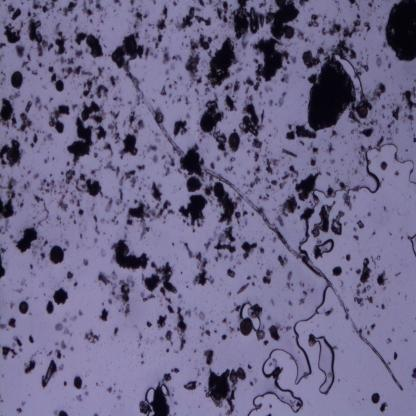Air bubble: (240, 338, 313, 416), (355, 145, 416, 203), (292, 284, 330, 340), (316, 335, 338, 394), (313, 238, 336, 258), (240, 300, 256, 320), (405, 231, 416, 257), (250, 314, 263, 329), (146, 387, 154, 403), (161, 384, 171, 396)
Background material: (308, 56, 354, 131), (383, 0, 416, 61), (252, 36, 290, 83), (180, 239, 216, 285), (206, 38, 236, 89), (204, 369, 236, 413), (67, 118, 97, 164), (151, 256, 177, 304), (176, 195, 210, 231), (267, 5, 301, 39), (311, 202, 337, 239), (126, 200, 151, 238), (180, 141, 205, 178), (296, 171, 324, 203), (245, 103, 268, 136), (16, 228, 39, 255), (217, 193, 237, 223), (233, 4, 250, 39), (153, 382, 171, 414), (176, 305, 188, 352), (118, 253, 148, 271), (29, 20, 43, 58), (152, 199, 175, 222), (334, 40, 357, 63), (42, 356, 58, 388), (342, 17, 362, 41), (121, 132, 140, 157), (370, 81, 390, 104), (119, 282, 132, 317), (178, 7, 196, 31), (30, 344, 55, 360), (4, 23, 23, 44), (280, 195, 298, 217), (127, 112, 146, 132), (148, 177, 162, 204), (141, 274, 162, 292), (109, 46, 126, 68), (18, 111, 34, 134), (241, 241, 259, 260), (214, 241, 238, 255), (186, 53, 199, 78), (109, 119, 122, 144), (36, 200, 49, 225), (103, 158, 121, 176), (316, 42, 335, 59), (172, 119, 189, 138), (249, 6, 260, 35), (359, 258, 371, 284), (162, 152, 175, 176), (228, 365, 245, 383), (38, 177, 57, 193), (212, 132, 228, 151), (216, 5, 232, 24), (332, 212, 344, 236), (403, 90, 416, 112), (340, 192, 355, 211), (56, 28, 66, 56), (219, 226, 236, 242), (224, 94, 239, 112), (328, 20, 343, 38), (56, 178, 67, 202), (348, 111, 363, 128), (108, 282, 119, 305), (193, 14, 214, 26), (0, 249, 9, 277), (6, 178, 16, 203), (1, 344, 17, 359), (84, 329, 100, 344), (82, 100, 102, 112), (126, 96, 141, 112), (352, 288, 364, 307), (98, 306, 110, 325), (97, 271, 112, 286), (298, 207, 314, 221), (139, 290, 155, 304), (204, 96, 218, 112), (76, 173, 87, 193), (92, 210, 101, 234), (360, 92, 372, 110), (248, 176, 263, 190), (247, 304, 262, 318), (305, 142, 320, 156), (34, 96, 48, 111), (96, 83, 109, 99), (193, 306, 206, 322), (359, 125, 375, 138), (126, 172, 138, 189), (203, 349, 215, 366), (182, 381, 199, 393), (96, 125, 108, 142), (357, 146, 367, 166), (48, 109, 58, 129), (84, 80, 95, 98), (278, 90, 289, 108), (281, 148, 299, 159), (62, 169, 76, 183), (246, 77, 260, 91), (138, 399, 151, 414), (114, 187, 124, 206), (55, 56, 74, 66), (0, 219, 11, 236), (261, 268, 272, 285), (170, 54, 183, 68), (62, 3, 75, 17), (285, 270, 294, 290), (25, 358, 37, 373), (56, 104, 71, 116), (280, 68, 291, 84), (103, 196, 114, 212), (12, 6, 23, 22), (189, 36, 200, 52), (346, 0, 359, 13), (57, 200, 70, 213), (356, 62, 368, 76), (92, 44, 104, 58), (75, 32, 87, 46), (310, 13, 321, 28), (197, 129, 208, 144), (104, 143, 115, 158), (91, 112, 106, 123), (160, 48, 170, 64), (392, 106, 402, 122), (82, 7, 95, 19), (0, 143, 6, 169), (58, 338, 69, 352), (277, 253, 288, 267), (94, 64, 105, 78), (157, 314, 168, 328), (271, 366, 282, 380), (204, 181, 213, 198), (154, 33, 164, 48), (265, 159, 275, 174), (403, 113, 415, 125), (2, 121, 11, 137), (37, 236, 49, 248), (284, 130, 296, 142), (230, 302, 242, 314), (298, 290, 306, 308), (15, 45, 25, 59), (96, 0, 106, 14), (152, 131, 162, 145), (374, 136, 384, 150), (68, 210, 76, 227), (24, 97, 33, 112), (214, 110, 223, 125), (8, 90, 19, 102), (156, 19, 167, 31), (21, 60, 32, 72), (37, 249, 48, 261), (113, 94, 124, 106), (62, 66, 72, 79), (14, 334, 24, 347), (8, 316, 18, 329), (297, 28, 306, 42), (109, 76, 118, 90), (334, 0, 342, 15), (251, 164, 261, 176), (325, 185, 335, 197), (145, 142, 157, 152), (66, 268, 76, 280), (365, 294, 375, 306), (280, 172, 292, 182), (160, 374, 173, 383), (276, 214, 284, 228), (160, 84, 168, 98), (30, 132, 38, 146), (166, 305, 176, 316), (44, 133, 54, 144), (338, 179, 348, 190), (253, 139, 263, 150), (127, 277, 137, 288), (235, 196, 245, 207), (361, 284, 372, 294), (53, 322, 64, 332), (224, 165, 236, 174), (258, 193, 270, 202), (12, 113, 18, 131), (199, 324, 208, 336), (112, 214, 121, 226), (354, 221, 366, 230), (135, 10, 144, 22), (370, 254, 377, 269), (62, 239, 70, 252), (113, 325, 121, 338), (79, 0, 87, 13), (73, 392, 83, 402), (243, 95, 253, 105), (228, 326, 238, 336), (308, 130, 318, 140), (349, 128, 359, 138), (42, 4, 52, 14), (327, 144, 336, 155), (55, 347, 62, 361), (109, 110, 121, 118), (27, 333, 35, 345), (236, 220, 244, 232), (215, 252, 223, 264), (63, 324, 71, 336), (377, 54, 383, 70), (164, 330, 172, 342), (74, 64, 82, 76), (262, 148, 271, 158), (1, 97, 11, 106), (168, 19, 178, 28), (138, 44, 144, 59), (106, 385, 115, 395), (0, 70, 6, 85), (285, 120, 294, 130), (410, 365, 416, 380), (163, 5, 169, 20), (68, 314, 77, 324), (56, 213, 62, 228), (11, 137, 20, 147), (380, 401, 388, 412), (363, 21, 371, 32), (82, 256, 90, 267), (82, 385, 90, 396), (111, 268, 117, 282), (265, 176, 271, 190), (8, 161, 20, 168), (28, 260, 35, 272), (70, 192, 76, 206), (367, 0, 377, 8), (92, 236, 100, 246), (34, 194, 44, 202), (384, 336, 392, 346), (152, 154, 160, 164), (310, 156, 318, 166), (322, 308, 332, 316), (290, 165, 298, 175), (322, 13, 328, 26), (144, 30, 150, 43), (204, 83, 210, 96), (256, 88, 263, 99), (82, 70, 93, 77), (266, 85, 274, 94), (7, 4, 15, 13), (378, 22, 384, 34), (183, 308, 192, 316), (22, 180, 30, 189), (145, 47, 151, 59), (299, 0, 311, 6), (228, 252, 234, 264), (99, 250, 108, 258), (277, 322, 283, 334), (138, 331, 142, 349), (256, 151, 262, 163), (299, 279, 307, 288), (330, 130, 338, 139), (134, 21, 143, 29), (10, 235, 18, 244), (228, 269, 236, 278), (33, 2, 41, 11), (50, 0, 57, 10), (205, 328, 212, 338), (283, 324, 293, 331), (47, 42, 54, 52), (146, 320, 153, 330), (76, 50, 83, 60), (76, 233, 86, 240), (21, 277, 28, 287), (329, 156, 336, 166), (127, 7, 138, 13), (13, 286, 24, 292), (392, 351, 398, 362), (87, 177, 92, 190), (16, 199, 24, 207), (278, 181, 286, 189), (37, 281, 45, 289), (371, 119, 379, 127), (8, 302, 16, 310), (71, 281, 79, 289), (90, 202, 98, 210), (387, 136, 395, 144), (320, 27, 327, 36), (113, 0, 122, 7), (171, 367, 180, 374), (0, 41, 7, 50), (214, 152, 220, 162), (196, 76, 202, 86), (140, 150, 146, 160), (177, 94, 183, 104), (199, 34, 204, 46), (118, 175, 124, 185), (223, 150, 230, 158), (71, 104, 79, 111), (55, 23, 62, 31), (304, 37, 312, 44), (43, 156, 50, 164), (157, 334, 165, 341), (355, 268, 362, 276), (93, 169, 98, 180), (0, 203, 5, 214), (290, 54, 296, 63), (72, 12, 78, 21), (363, 120, 372, 126), (370, 322, 376, 331), (412, 86, 416, 99), (77, 198, 82, 208), (271, 358, 276, 368), (221, 334, 228, 341), (47, 65, 54, 72), (379, 112, 386, 119), (365, 209, 371, 217), (137, 164, 145, 170), (235, 210, 241, 218), (20, 148, 26, 156), (60, 363, 66, 371), (50, 74, 56, 82), (227, 290, 233, 298), (196, 368, 202, 376), (92, 76, 98, 84), (96, 35, 102, 43), (380, 302, 386, 310), (32, 173, 40, 179), (371, 230, 377, 238), (134, 31, 140, 39), (287, 298, 293, 306), (346, 254, 352, 262), (78, 208, 84, 216), (286, 313, 292, 321), (270, 298, 276, 306), (222, 317, 228, 325), (37, 128, 45, 134), (394, 169, 400, 177), (26, 53, 32, 61), (165, 68, 171, 76), (272, 194, 277, 203), (196, 97, 201, 106), (185, 95, 190, 104), (173, 80, 178, 89), (247, 148, 252, 157), (112, 254, 116, 265), (0, 173, 4, 184), (31, 70, 38, 76), (242, 209, 248, 216), (208, 0, 214, 7), (78, 309, 84, 316), (0, 323, 7, 329), (246, 169, 252, 176), (198, 0, 204, 7), (272, 180, 278, 187), (21, 400, 26, 408), (247, 363, 252, 371), (210, 161, 215, 169), (190, 78, 194, 88), (332, 177, 340, 182), (84, 48, 90, 54), (388, 123, 394, 129), (237, 260, 243, 266), (356, 283, 362, 289), (68, 346, 74, 352), (88, 0, 94, 6), (266, 315, 272, 321), (208, 318, 214, 324), (32, 11, 38, 17), (148, 23, 154, 29), (196, 7, 202, 13), (133, 198, 139, 204), (43, 39, 48, 46), (117, 393, 122, 400), (19, 346, 24, 353), (101, 217, 106, 224), (144, 13, 149, 20), (260, 246, 264, 254), (0, 55, 4, 63), (322, 157, 326, 165), (261, 236, 265, 244), (352, 226, 356, 234), (100, 16, 104, 24), (74, 27, 78, 35), (394, 272, 402, 276), (387, 61, 391, 69), (140, 350, 144, 358), (340, 280, 344, 288), (246, 276, 252, 281), (62, 316, 67, 322), (139, 360, 145, 365), (57, 7, 62, 13), (173, 0, 178, 6), (326, 171, 332, 176), (300, 140, 305, 146), (247, 188, 253, 193), (353, 235, 358, 241), (249, 382, 255, 387), (223, 254, 228, 260), (93, 411, 99, 416), (353, 170, 359, 175), (16, 408, 22, 413), (210, 176, 214, 183), (229, 158, 236, 162), (366, 330, 370, 337), (374, 288, 378, 295), (273, 237, 277, 244), (63, 380, 67, 387), (265, 412, 272, 416), (27, 11, 31, 18), (172, 241, 176, 248), (38, 61, 42, 68), (0, 185, 5, 190), (301, 74, 306, 79), (340, 157, 345, 162), (213, 328, 218, 333), (381, 105, 386, 110), (411, 139, 416, 144), (376, 255, 381, 260), (270, 99, 273, 107), (89, 18, 93, 24), (30, 272, 36, 276), (193, 348, 197, 354), (107, 52, 111, 58), (178, 76, 182, 82), (130, 0, 134, 6), (375, 304, 379, 310), (191, 227, 195, 233), (209, 37, 212, 44), (187, 112, 190, 119), (251, 212, 255, 217), (168, 93, 172, 98), (101, 302, 105, 307), (171, 100, 175, 105), (66, 161, 70, 166), (26, 295, 30, 300), (268, 133, 272, 138), (0, 400, 5, 404), (35, 296, 39, 301), (264, 342, 268, 347), (166, 348, 170, 353), (24, 137, 28, 142), (268, 403, 272, 408), (142, 194, 146, 199), (27, 172, 32, 176), (404, 148, 408, 153), (382, 206, 387, 210), (104, 44, 107, 50), (111, 26, 114, 32), (402, 338, 408, 341), (139, 186, 142, 192), (366, 54, 369, 60), (153, 0, 157, 4), (254, 275, 258, 279), (48, 174, 52, 178), (358, 14, 362, 18), (18, 193, 22, 197), (310, 289, 314, 293), (70, 46, 74, 50), (252, 282, 256, 286), (344, 222, 348, 226), (169, 84, 173, 88), (400, 236, 404, 240), (96, 29, 100, 33), (50, 98, 54, 102), (20, 2, 24, 6), (170, 341, 173, 346), (102, 232, 107, 235), (199, 340, 204, 343), (196, 90, 199, 95), (43, 292, 46, 297), (152, 98, 155, 103), (214, 35, 217, 40), (96, 382, 99, 387), (263, 138, 266, 142), (300, 94, 304, 97), (378, 4, 381, 8), (174, 402, 178, 405), (63, 354, 66, 358), (383, 287, 387, 290), (182, 42, 184, 48), (201, 28, 204, 32), (106, 218, 108, 224), (184, 34, 187, 38), (389, 233, 393, 236), (29, 312, 32, 316), (233, 265, 235, 270), (186, 44, 188, 49), (114, 382, 116, 387), (266, 141, 269, 144), (188, 359, 191, 362), (199, 109, 202, 112), (167, 78, 170, 81), (297, 19, 299, 23), (172, 394, 174, 398), (198, 406, 200, 410), (2, 0, 6, 2), (108, 66, 110, 70), (52, 158, 55, 160), (398, 292, 400, 295), (62, 171, 63, 176), (198, 28, 199, 33), (364, 38, 366, 40), (28, 394, 30, 396), (362, 57, 363, 60), (306, 102, 307, 104)
Cotton: (124, 62, 404, 392)
Diatom: (48, 244, 64, 265), (123, 34, 137, 57), (200, 112, 215, 132), (114, 239, 129, 258), (9, 70, 24, 88), (240, 317, 253, 336), (6, 146, 20, 162), (236, 282, 251, 296), (55, 287, 66, 306), (2, 202, 15, 218), (230, 132, 240, 150), (303, 48, 314, 64), (213, 182, 225, 196), (0, 106, 12, 120), (188, 176, 198, 192), (332, 265, 344, 278), (295, 124, 306, 138), (87, 33, 97, 48), (285, 25, 295, 39), (90, 182, 100, 196), (359, 105, 369, 119), (18, 302, 29, 314), (376, 272, 385, 286), (370, 392, 380, 404), (55, 79, 64, 92), (74, 375, 82, 389), (56, 121, 65, 133), (241, 240, 250, 252), (256, 330, 266, 340), (307, 336, 316, 347), (81, 110, 90, 121), (270, 324, 278, 336), (46, 304, 54, 316), (156, 111, 164, 123), (380, 160, 388, 171), (202, 40, 210, 51), (242, 115, 249, 126), (57, 410, 68, 416)
